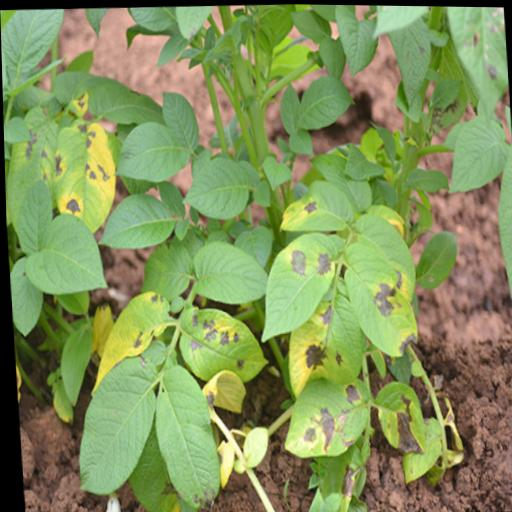Early Blight: (276, 286, 363, 402), (81, 285, 172, 395), (250, 228, 337, 336), (274, 365, 372, 457), (44, 112, 116, 233), (337, 251, 416, 356), (173, 300, 267, 387), (2, 103, 67, 216), (273, 179, 352, 235), (369, 376, 424, 450)
